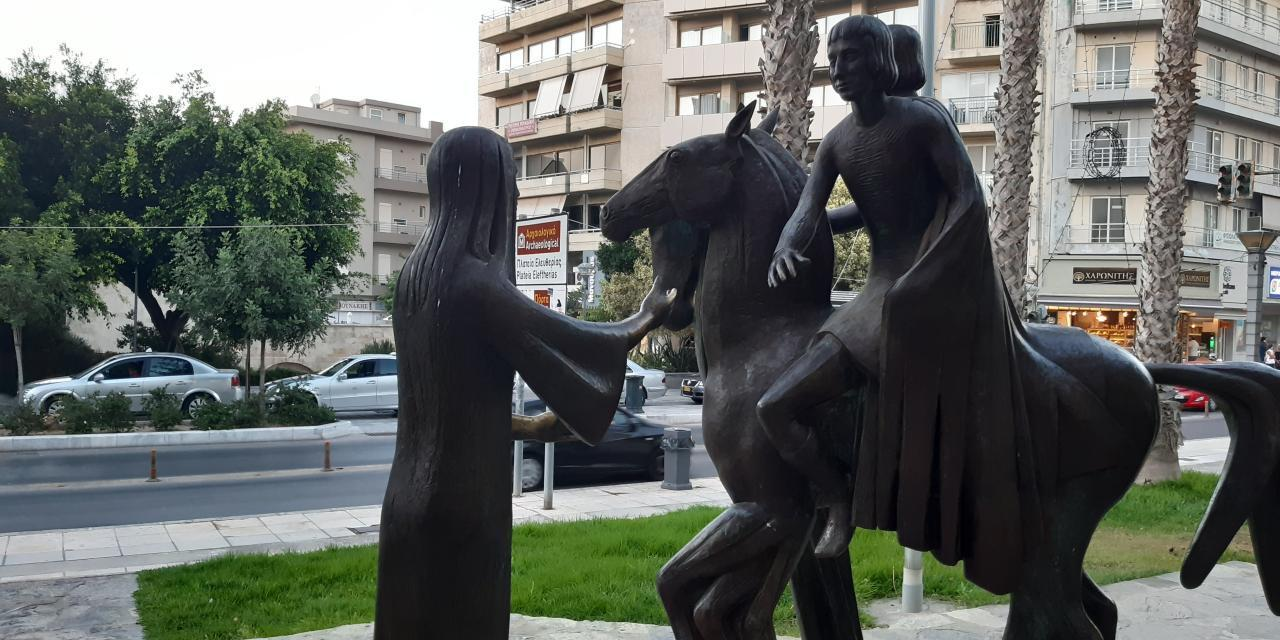Aretousa: (378, 16, 1280, 640)
